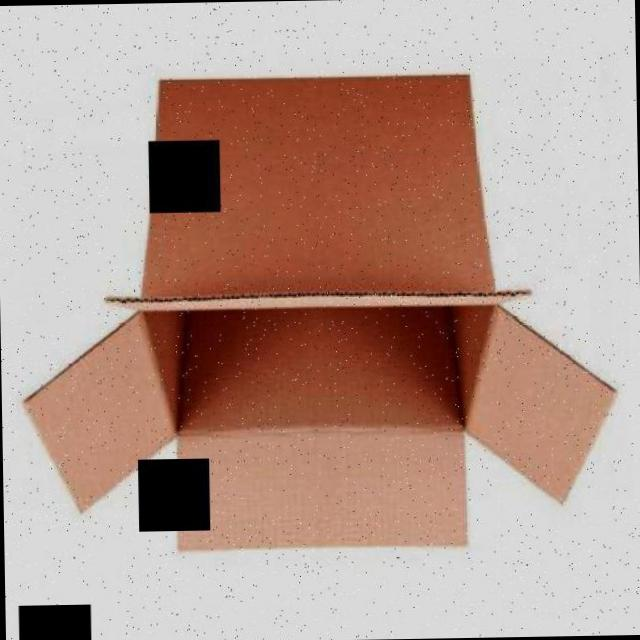box: (15, 54, 617, 572)
